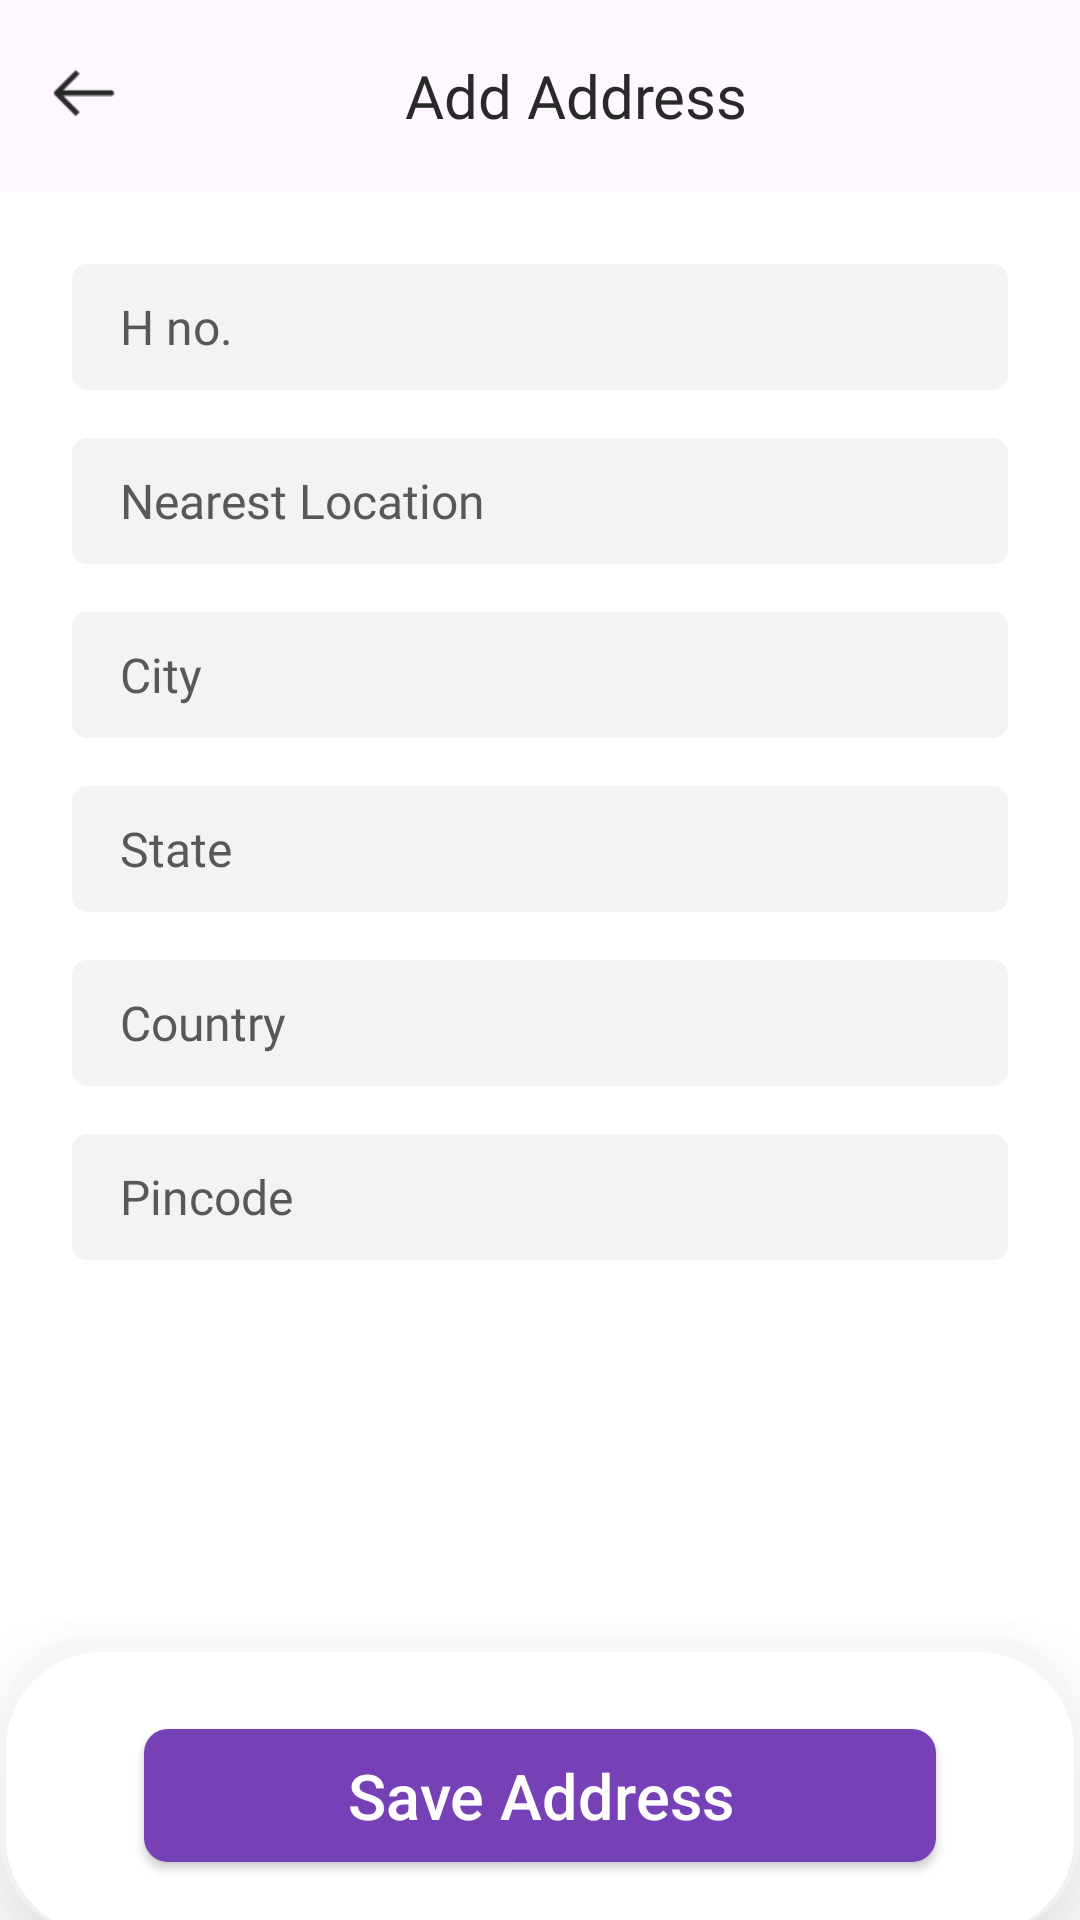

Screen size 1080 × 1920. Icon name, then its box in pixels as bbox(x1, y1, x2, y2):
arrow left: bbox(53, 69, 115, 116)
